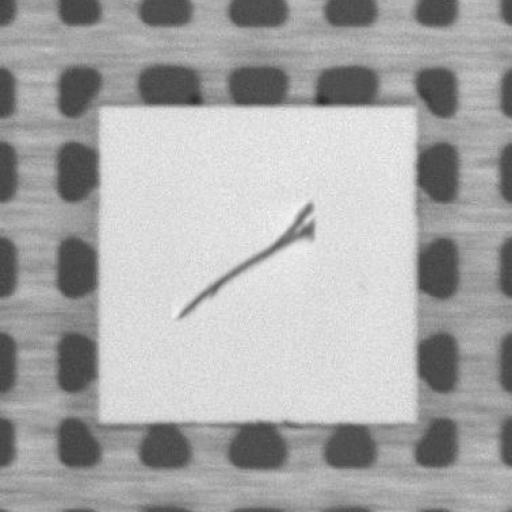DIE_INK: (165, 195, 319, 322)
